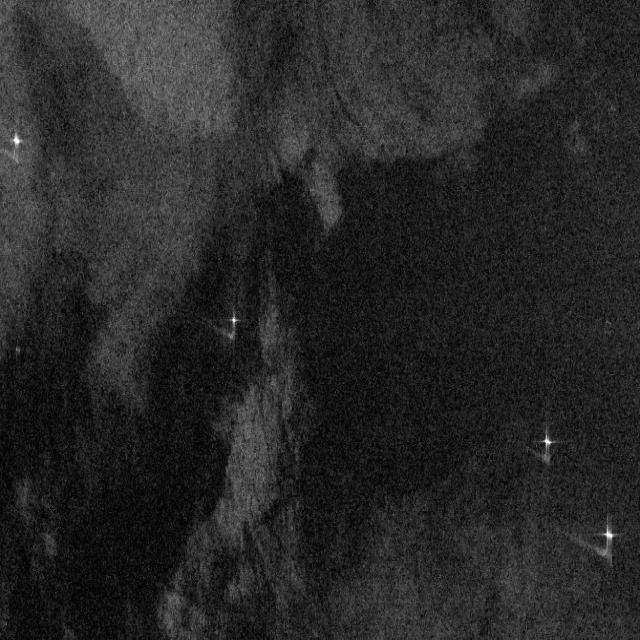look-alike: (273, 192, 516, 576), (7, 300, 219, 626), (532, 65, 632, 392)
ship: (539, 425, 558, 461), (598, 516, 615, 556), (226, 307, 240, 346), (10, 131, 22, 159)
